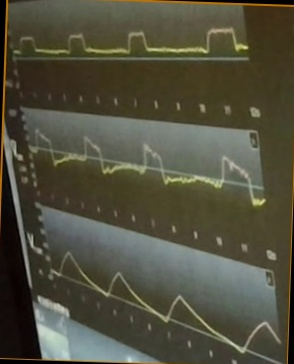Accumulation Flow: (31, 127, 266, 208)
Volume: (52, 249, 279, 353)
